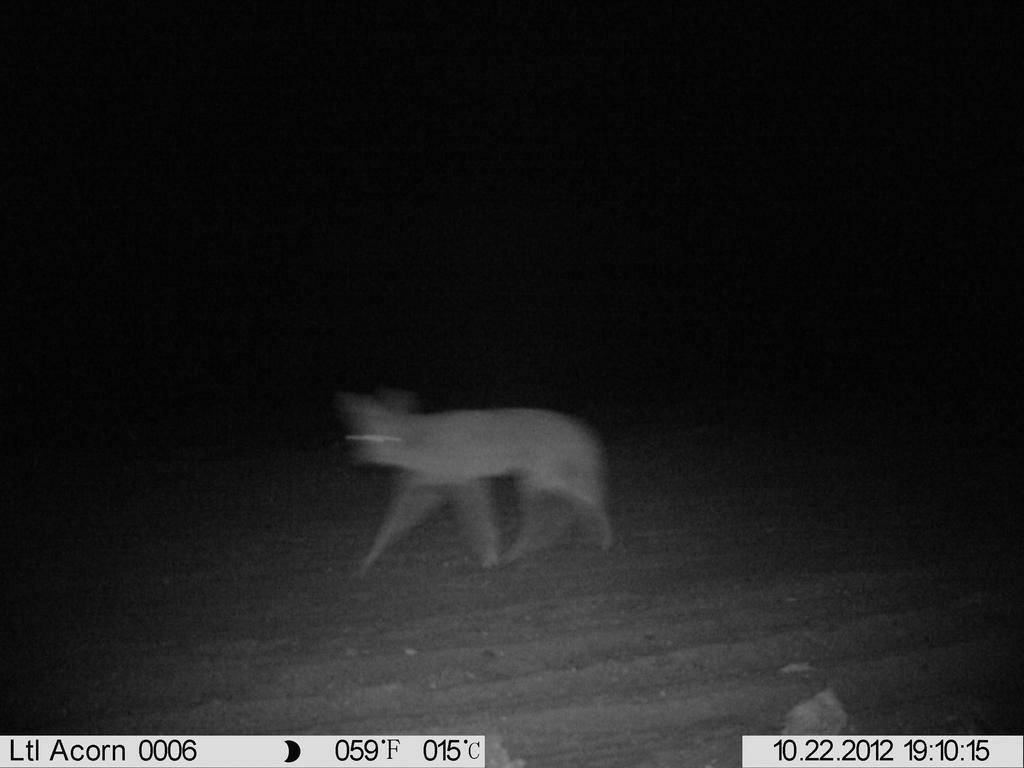coyote: (324, 377, 628, 585)
